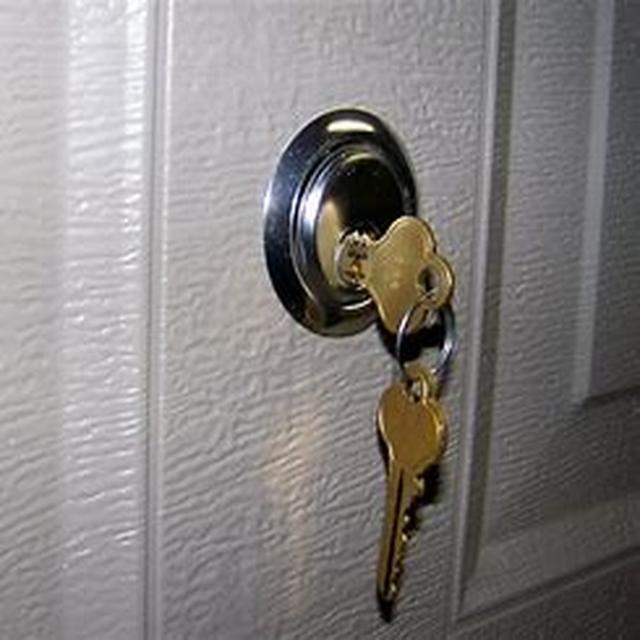key: (323, 187, 459, 640)
